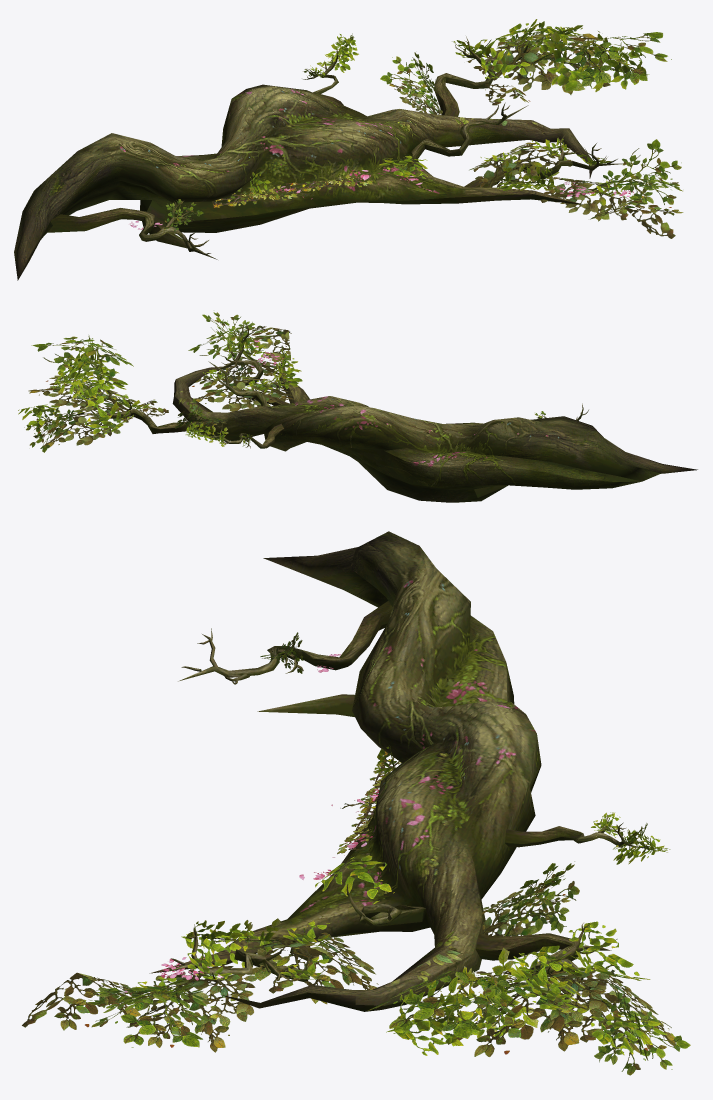
Rendered from 4006_Item_shu_3.FBX.
3 views of the same model, one above another, from view 1: azimuth 30°, elevation 25°; view 2: azimuth 150°, elevation 25°; view 3: azimuth 270°, elevation 25° (orthographic). The views are drawn at different scales.
Parts seen in each view (by area): view 1: 4006_Item_shu_3; view 2: 4006_Item_shu_3; view 3: 4006_Item_shu_3.
Boxes of the visible parts, left/top/right/bottom form: 4006_Item_shu_3: left=14, top=19, right=683, bottom=280; 4006_Item_shu_3: left=18, top=312, right=697, bottom=502; 4006_Item_shu_3: left=22, top=531, right=690, bottom=1075.
Bounding box in the file's own units: 236 × 38.42 × 131.
